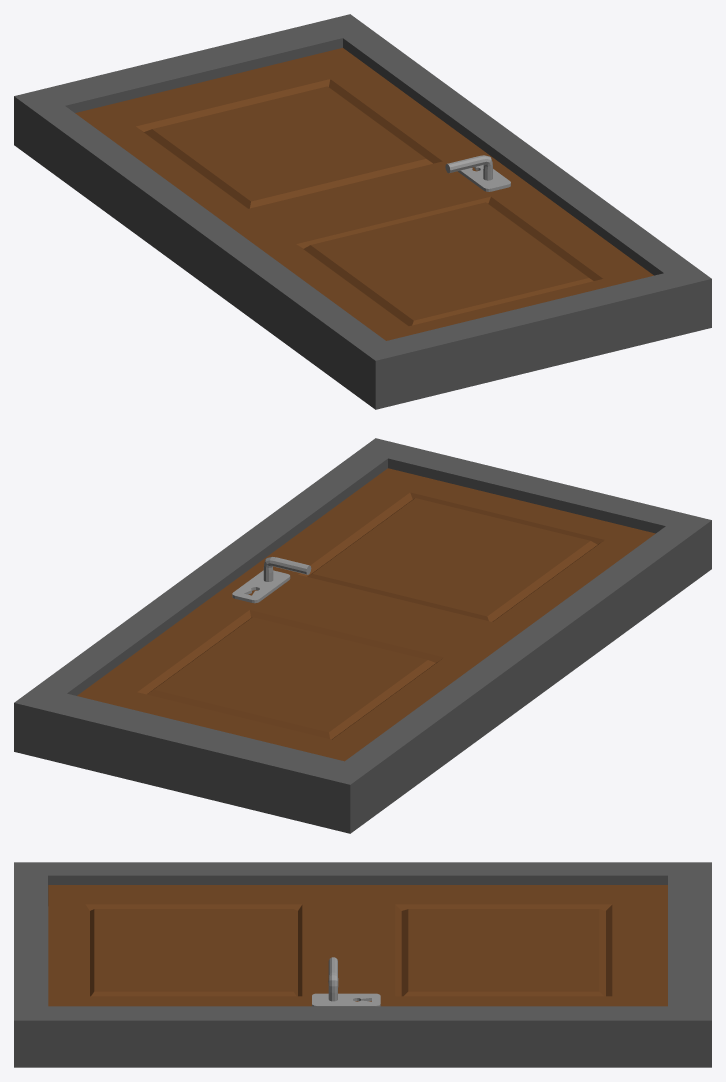
The model's file is porte.glb.
3 views of the same model, one above another, from view 1: azimuth 30°, elevation 25°; view 2: azimuth 150°, elevation 25°; view 3: azimuth 270°, elevation 25° (orthographic). The views are drawn at different scales.
Visible parts, largest first — view 1: Cube, Cube.002, Cube.001, Cylinder; view 2: Cube, Cube.002, Cube.001, Cylinder; view 3: Cube, Cube.002, Cube.001, Cylinder.
Boxes of the visible parts, left/top/right/bottom form: Cube: left=75, top=48, right=653, bottom=340; Cube.002: left=14, top=14, right=711, bottom=409; Cube.001: left=458, top=165, right=510, bottom=191; Cylinder: left=445, top=155, right=492, bottom=180; Cube: left=77, top=468, right=655, bottom=761; Cube.002: left=14, top=438, right=711, bottom=833; Cube.001: left=232, top=570, right=290, bottom=603; Cylinder: left=263, top=557, right=311, bottom=581; Cube: left=48, top=885, right=667, bottom=1006; Cube.002: left=14, top=862, right=711, bottom=1067; Cube.001: left=312, top=993, right=380, bottom=1006; Cylinder: left=328, top=957, right=338, bottom=1001.
Bounding box in the file's own units: 2.42 × 0.5806 × 4.5.
